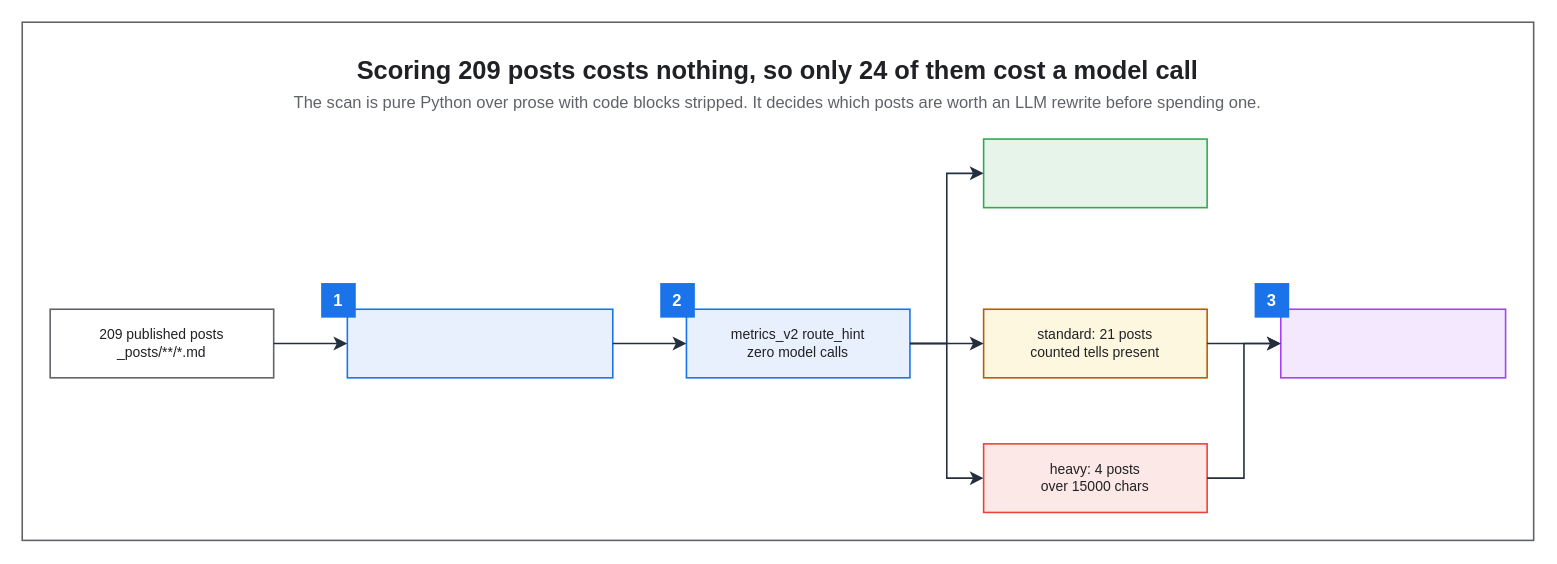
The diagram is 1557 pixels wide and 564 high, and some of its shapes have lost their labels. The centre of each missing label's shape, as x and y in pixels:
"24 rewritten one Cilium post excluded" goes at (x=1392, y=343).
"light: 184 posts left untouched" goes at (x=1094, y=173).
"Strip to prose frontmatter, code, footer out" goes at (x=479, y=343).
